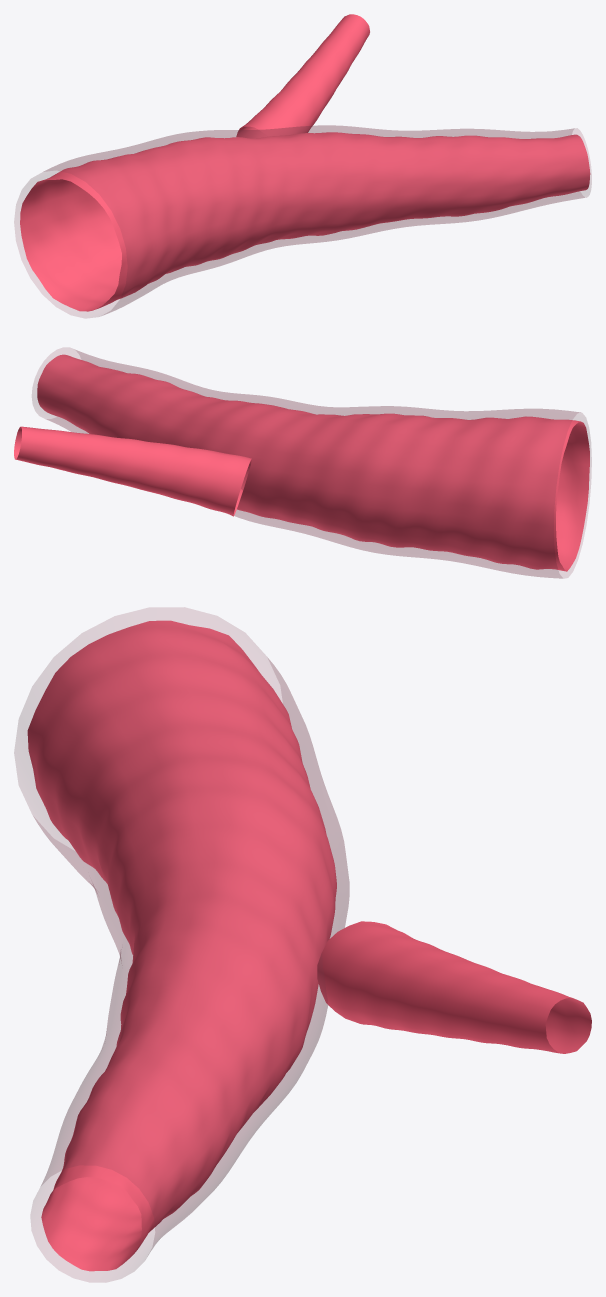
The model's file is bloodstream_tunnel.glb.
3 renders of one model, top to bottom at view 1: azimuth 30°, elevation 25°; view 2: azimuth 150°, elevation 25°; view 3: azimuth 270°, elevation 25°, orthographic. The views are drawn at different scales.
Parts seen in each view (by area): view 1: Endothelium_Interior_Tunnel, Vessel_Outer_Adventitia, Endothelium_Bifurcation_Branch; view 2: Vessel_Outer_Adventitia, Endothelium_Interior_Tunnel, Endothelium_Bifurcation_Branch; view 3: Vessel_Outer_Adventitia, Endothelium_Interior_Tunnel, Endothelium_Bifurcation_Branch.
Part boxes in pixels (bbox=[...]): Endothelium_Interior_Tunnel: bbox=[20, 132, 590, 311]; Vessel_Outer_Adventitia: bbox=[14, 125, 591, 317]; Endothelium_Bifurcation_Branch: bbox=[236, 14, 369, 138]; Vessel_Outer_Adventitia: bbox=[32, 348, 591, 578]; Endothelium_Interior_Tunnel: bbox=[37, 354, 589, 571]; Endothelium_Bifurcation_Branch: bbox=[14, 426, 251, 516]; Vessel_Outer_Adventitia: bbox=[14, 607, 349, 1282]; Endothelium_Interior_Tunnel: bbox=[27, 620, 336, 1271]; Endothelium_Bifurcation_Branch: bbox=[317, 921, 591, 1053].
Size of the model in its own units: 11.58 by 3.03 by 6.13.
